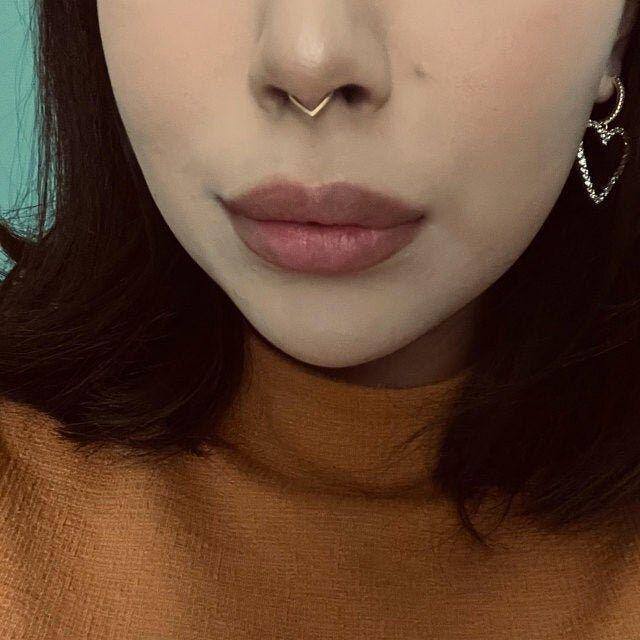Earring: (281, 80, 340, 120)
